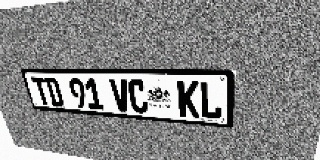1: (82, 78, 104, 110)
9: (67, 78, 89, 109)
C: (127, 79, 149, 114)
D: (44, 77, 65, 107)
K: (177, 80, 199, 118)
L: (199, 81, 223, 120)
T: (31, 77, 52, 106)
V: (109, 79, 131, 112)
